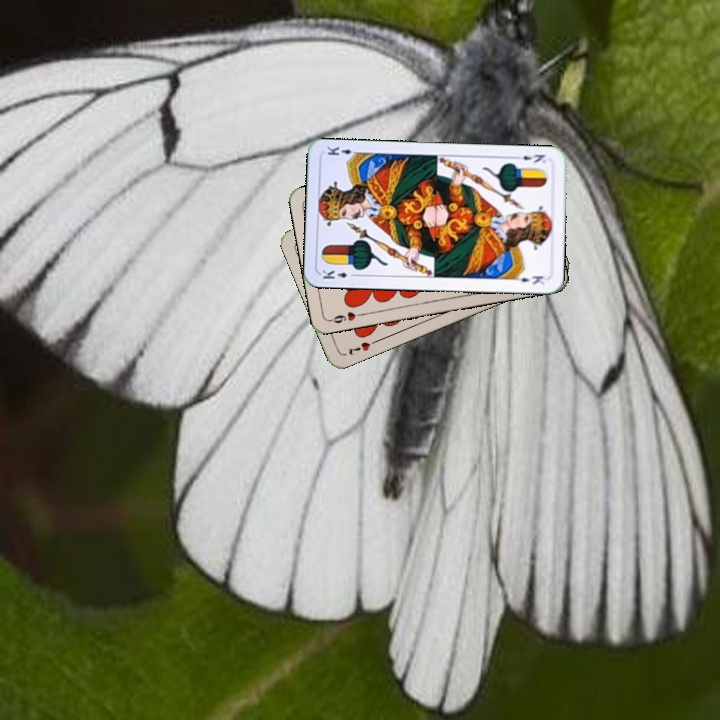EK: (318, 266, 359, 282), (511, 150, 548, 165)
H7: (345, 336, 380, 358)
H9: (326, 307, 366, 326)
